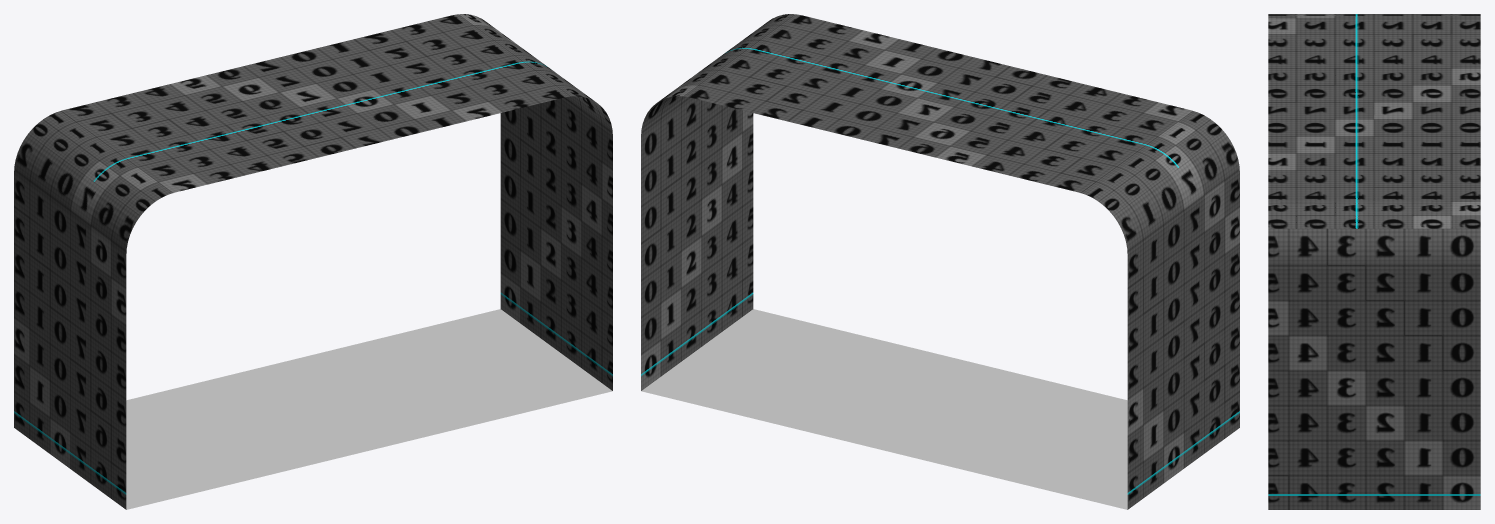
File: WallFrameRound500x300x200cm.FBX
3 renders of one model, left to right at view 1: azimuth 30°, elevation 25°; view 2: azimuth 150°, elevation 25°; view 3: azimuth 270°, elevation 25°, orthographic. The views are drawn at different scales.
Parts seen in each view (by area): view 1: WallFrameRound500x300x200cm; view 2: WallFrameRound500x300x200cm; view 3: WallFrameRound500x300x200cm.
Boxes of the visible parts, box(x1,y1,x2,y2) form: WallFrameRound500x300x200cm: box(14, 14, 612, 509); WallFrameRound500x300x200cm: box(641, 14, 1239, 509); WallFrameRound500x300x200cm: box(1268, 14, 1480, 509).
Bounding box in the file's own units: 500 × 300 × 200.
